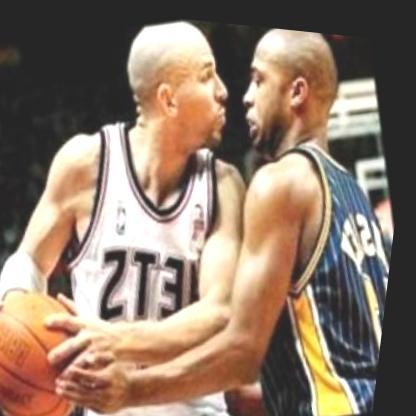basketball: (0, 274, 119, 416)
